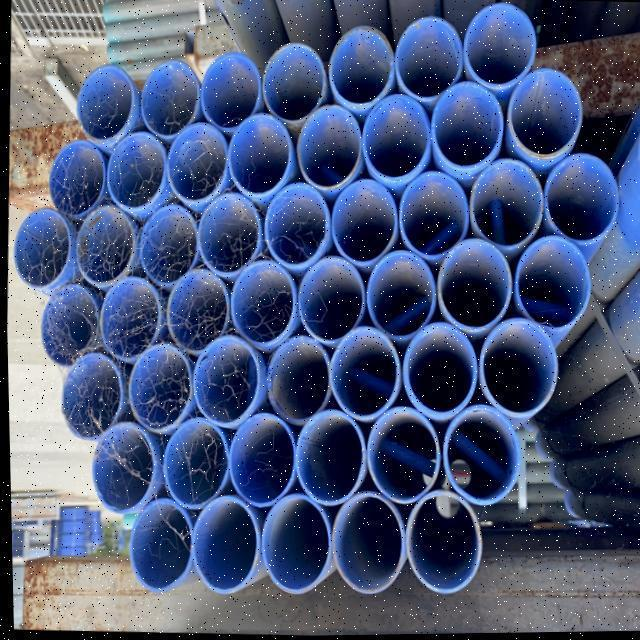pipe: (327, 491, 409, 594), (402, 491, 483, 595), (442, 409, 522, 511), (477, 318, 558, 418), (514, 238, 598, 333), (253, 496, 329, 596), (118, 496, 197, 591), (436, 243, 514, 337), (189, 493, 259, 595), (543, 156, 619, 249), (387, 173, 468, 260), (293, 411, 364, 510), (400, 326, 476, 417), (365, 410, 436, 507), (225, 414, 296, 510), (186, 336, 260, 427), (469, 162, 543, 252), (326, 329, 396, 423), (432, 86, 504, 176), (166, 269, 235, 362), (463, 7, 536, 93), (365, 254, 437, 341), (511, 74, 583, 161), (86, 425, 153, 518), (263, 186, 334, 272), (297, 258, 365, 346), (226, 264, 297, 348), (332, 180, 398, 270), (264, 336, 330, 425), (124, 344, 189, 434), (158, 424, 224, 512), (361, 98, 430, 182), (296, 108, 362, 194), (227, 114, 292, 201), (58, 352, 121, 441), (394, 19, 464, 99), (329, 25, 396, 106), (163, 124, 226, 209), (260, 44, 326, 123), (100, 279, 161, 364), (197, 194, 260, 276), (71, 205, 133, 288), (105, 129, 166, 211), (201, 52, 262, 134), (13, 206, 70, 293), (136, 206, 197, 287), (138, 62, 200, 141), (38, 285, 96, 368), (46, 140, 102, 223), (77, 62, 136, 140)
